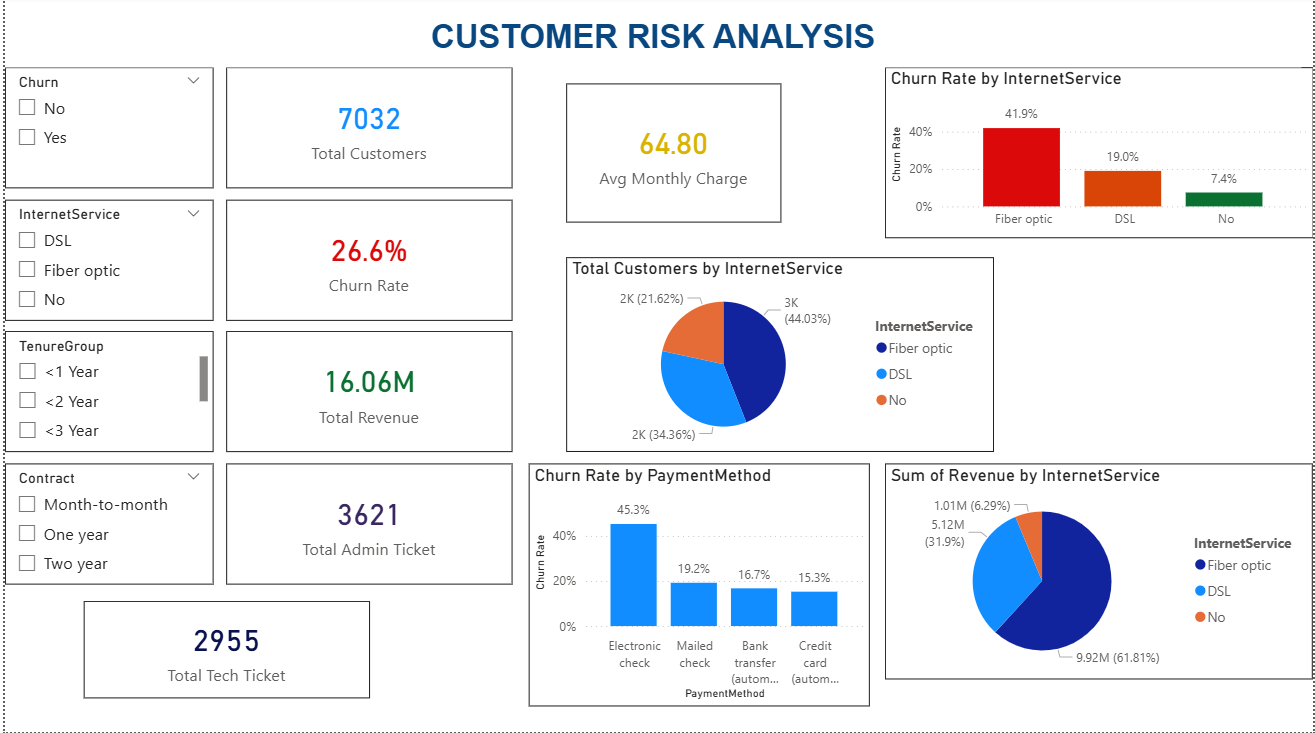

What the dashboard file says about the page in this screenshot:
{"tool":"powerbi","page":{"name":"CUSTOMER RISK ANALYSIS","canvas":[1280,720],"ordinal":1},"visuals":[{"type":"slicer","fields":{"Values":["customer_churn_cleaned.Churn"]},"box":[0,69.7,204.2,118.6],"z":0},{"type":"slicer","fields":{"Values":["customer_churn_cleaned.InternetService"]},"box":[0,199.3,204.2,118.6],"z":1000},{"type":"slicer","fields":{"Values":["customer_churn_cleaned.TenureGroup"]},"box":[0,327.7,204.2,118.6],"z":2000},{"type":"slicer","fields":{"Values":["customer_churn_cleaned.Contract"]},"box":[0,457.3,204.2,118.6],"z":3000},{"type":"card","fields":{"Values":["customer_churn_cleaned.Total Customers"]},"box":[216.4,69.7,280,118.6],"z":4000},{"type":"card","fields":{"Values":["customer_churn_cleaned.Churn Rate"]},"box":[216.4,199.3,280,118.6],"z":5000},{"type":"card","fields":{"Values":["customer_churn_cleaned.Total Revenue"]},"box":[216.4,327.7,280,118.6],"z":6000},{"type":"card","fields":{"Values":["customer_churn_cleaned.Total Admin Ticket"]},"box":[216.4,457.3,280,118.6],"z":7000},{"type":"card","fields":{"Values":["customer_churn_cleaned.Total Tech Ticket"]},"box":[77,591.9,280,95.4],"z":8000},{"type":"clusteredColumnChart","fields":{"Category":["customer_churn_cleaned.InternetService"],"Y":["customer_churn_cleaned.Churn Rate"]},"box":[860.9,69.7,419.4,167.5],"z":9000},{"type":"pieChart","fields":{"Category":["customer_churn_cleaned.InternetService"],"Y":["customer_churn_cleaned.Total Customers"]},"box":[549.1,255.6,418.2,190.8],"z":10000},{"type":"pieChart","fields":{"Category":["customer_churn_cleaned.InternetService"],"Y":["Sum(customer_churn_cleaned.Revenue)"]},"box":[860.9,457.3,418.2,211.6],"z":11000},{"type":"clusteredColumnChart","fields":{"Category":["customer_churn_cleaned.PaymentMethod"],"Y":["customer_churn_cleaned.Churn Rate"]},"box":[512.4,457.3,333.8,237.2],"z":12000},{"type":"textbox","box":[0,17.1,1268.1,52.6],"z":13000},{"type":"card","fields":{"Values":["customer_churn_cleaned.Avg Monthly Charge"]},"box":[549.1,85.6,210.3,135.7],"z":14000}]}

Visuals, with their boxes in screenshot pixels (x1, y1, x2, y2), scaled from the page's 1280x720 canvas onto the 1315x733 screenshot:
slicer - customer_churn_cleaned.Churn: (0, 71, 210, 192)
slicer - customer_churn_cleaned.InternetService: (0, 203, 210, 324)
slicer - customer_churn_cleaned.TenureGroup: (0, 334, 210, 454)
slicer - customer_churn_cleaned.Contract: (0, 466, 210, 586)
card - customer_churn_cleaned.Total Customers: (222, 71, 510, 192)
card - customer_churn_cleaned.Churn Rate: (222, 203, 510, 324)
card - customer_churn_cleaned.Total Revenue: (222, 334, 510, 454)
card - customer_churn_cleaned.Total Admin Ticket: (222, 466, 510, 586)
card - customer_churn_cleaned.Total Tech Ticket: (79, 603, 367, 700)
clusteredColumnChart - customer_churn_cleaned.InternetService x customer_churn_cleaned.Churn Rate: (884, 71, 1314, 241)
pieChart - customer_churn_cleaned.InternetService x customer_churn_cleaned.Total Customers: (564, 260, 994, 454)
pieChart - customer_churn_cleaned.InternetService x Sum(customer_churn_cleaned.Revenue): (884, 466, 1314, 681)
clusteredColumnChart - customer_churn_cleaned.PaymentMethod x customer_churn_cleaned.Churn Rate: (526, 466, 869, 707)
textbox: (0, 17, 1303, 71)
card - customer_churn_cleaned.Avg Monthly Charge: (564, 87, 780, 225)
